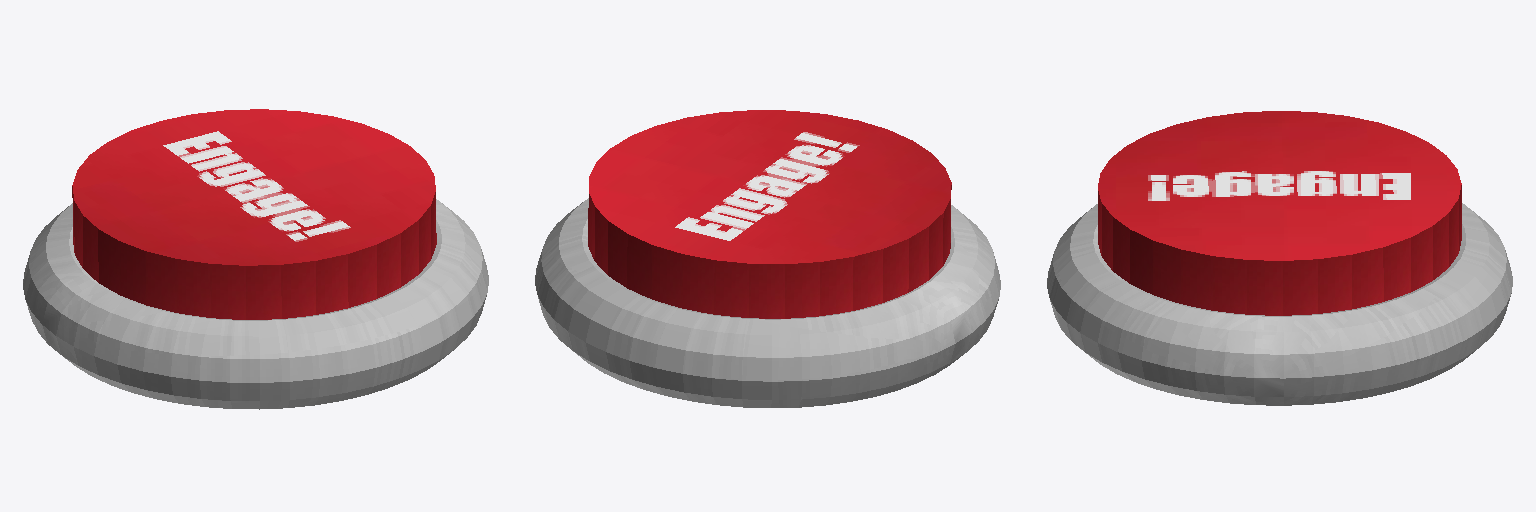
3 views of the same model, side by side, from view 1: azimuth 30°, elevation 25°; view 2: azimuth 150°, elevation 25°; view 3: azimuth 270°, elevation 25° (orthographic).
Visible parts, largest first — view 1: Cylinder, Torus; view 2: Cylinder, Torus; view 3: Cylinder, Torus.
Boxes of the visible parts, <box> form: Cylinder: <box>72,109,436,319</box>; Torus: <box>23,199,488,409</box>; Cylinder: <box>588,110,951,318</box>; Torus: <box>535,198,1000,407</box>; Cylinder: <box>1098,111,1461,315</box>; Torus: <box>1047,203,1512,405</box>.
Size of the model in its own units: 2.56 by 0.8605 by 2.56.
2 materials, 2 textured.